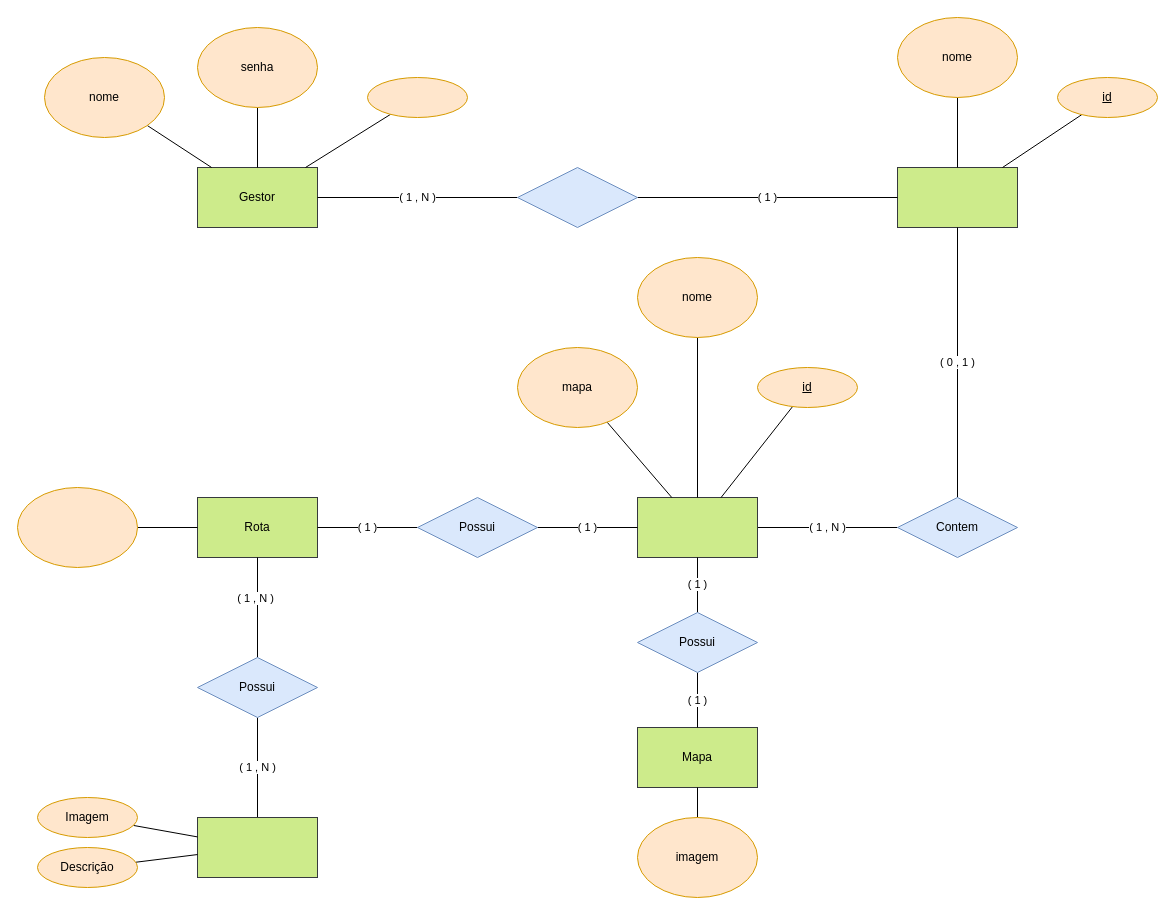
This 1175x915 diagram has some shape labels left out. The box of each missing label's shape, as (x1, y1, x2, y2) in pixels:
Administra: (516, 166, 638, 228)
Ambiente: (636, 496, 758, 558)
Diretoria: (896, 166, 1018, 228)
Matricula: (366, 76, 468, 118)
Ponto_referencia: (196, 816, 318, 878)
video: (16, 486, 138, 568)
